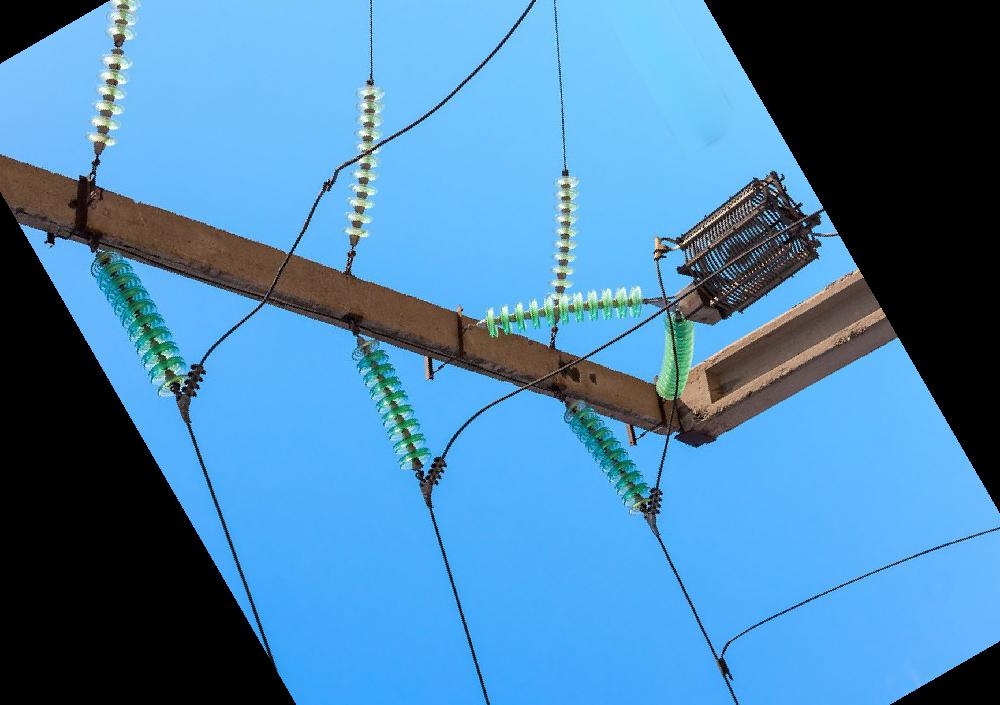insulator: (87, 244, 198, 404), (557, 395, 660, 523), (348, 334, 437, 479), (479, 282, 646, 344), (78, 1, 145, 152), (339, 77, 389, 244), (542, 170, 586, 298), (650, 308, 698, 402)
insulator_stringdrop: (97, 21, 141, 70)
